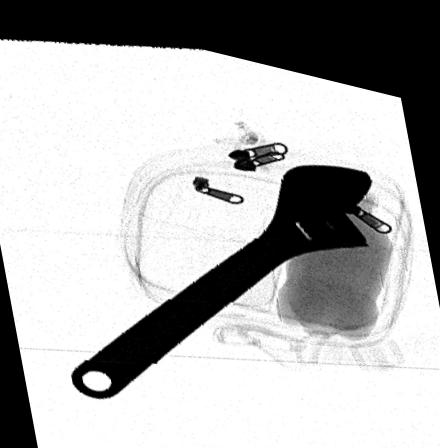Wrench: (63, 148, 374, 395)
